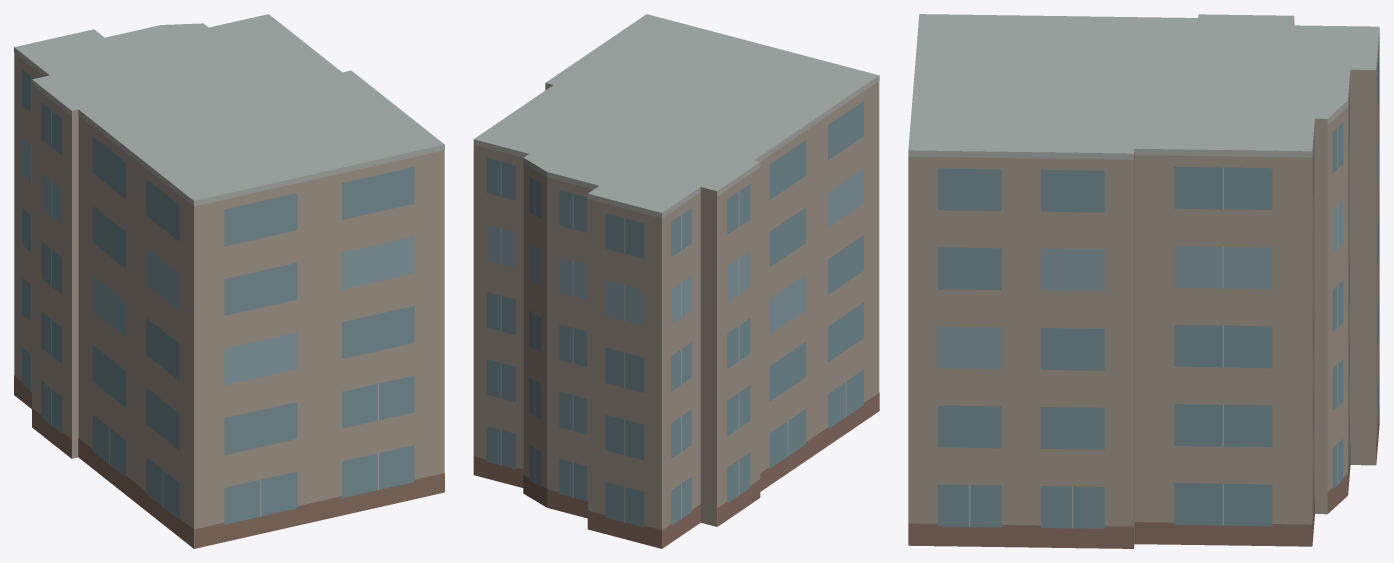
The model's file is survey-upis-32996299.glb.
3 renders of one model, left to right at view 1: azimuth 30°, elevation 25°; view 2: azimuth 150°, elevation 25°; view 3: azimuth 270°, elevation 25°, orthographic. The views are drawn at different scales.
Parts seen in each view (by area): view 1: survey-upis-32996299.tmp; view 2: survey-upis-32996299.tmp; view 3: survey-upis-32996299.tmp.
Part boxes in pixels (bbox=[...]): survey-upis-32996299.tmp: bbox=[14, 14, 444, 548]; survey-upis-32996299.tmp: bbox=[473, 14, 879, 548]; survey-upis-32996299.tmp: bbox=[908, 14, 1379, 548].
Size of the model in its own units: 11.56 by 15.25 by 16.49.
